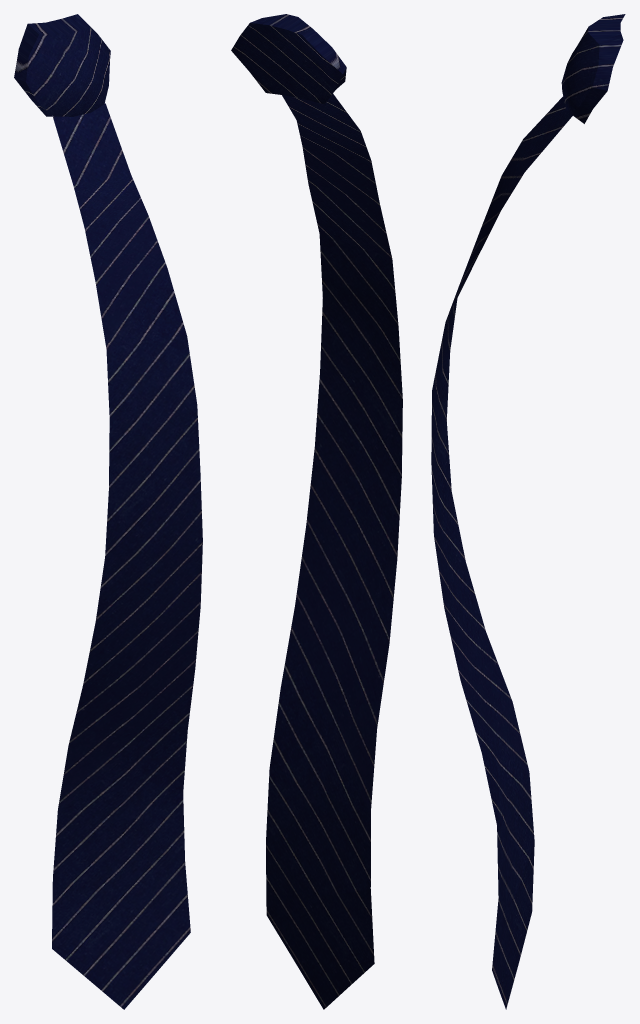
File: Pose-3_SuitTie-4.fbx
3 renders of one model, left to right at view 1: azimuth 30°, elevation 25°; view 2: azimuth 150°, elevation 25°; view 3: azimuth 270°, elevation 25°, orthographic. The views are drawn at different scales.
Visible parts, largest first — view 1: Pose-3_SuitTie-4; view 2: Pose-3_SuitTie-4; view 3: Pose-3_SuitTie-4.
Boxes of the visible parts, bbox=[...] form: Pose-3_SuitTie-4: bbox=[14, 14, 202, 1009]; Pose-3_SuitTie-4: bbox=[231, 14, 402, 1009]; Pose-3_SuitTie-4: bbox=[431, 14, 625, 1009].
Bounding box in the file's own units: 6.98 × 51.34 × 9.25.
